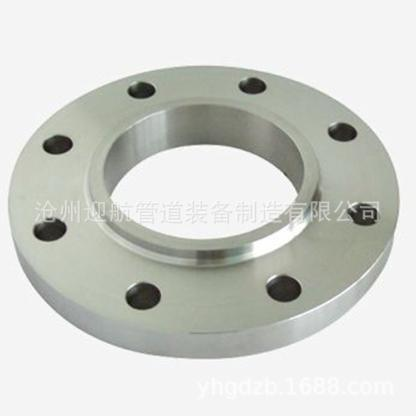FOD: (7, 58, 402, 364)
